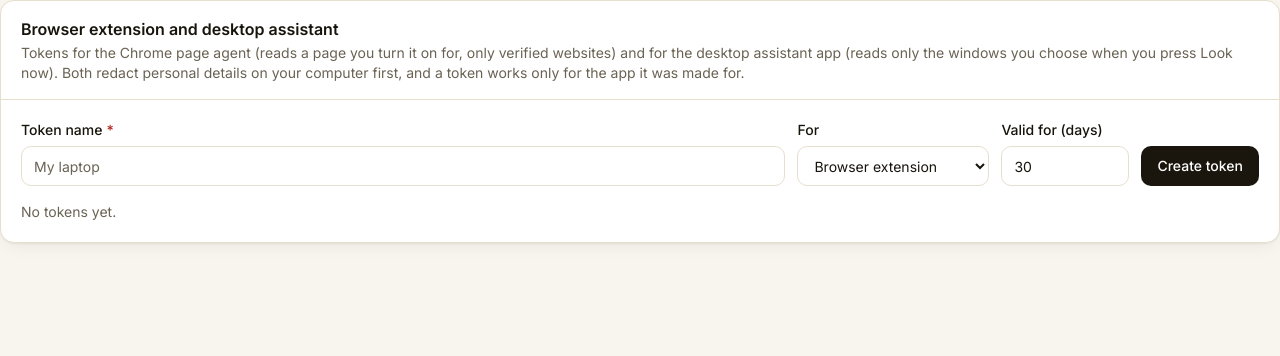
Test: ExtensionTokensCard › explains a refusal in plain words
In the field labelled "Token name*": (403, 166) [21, 146, 785, 186], type "x"
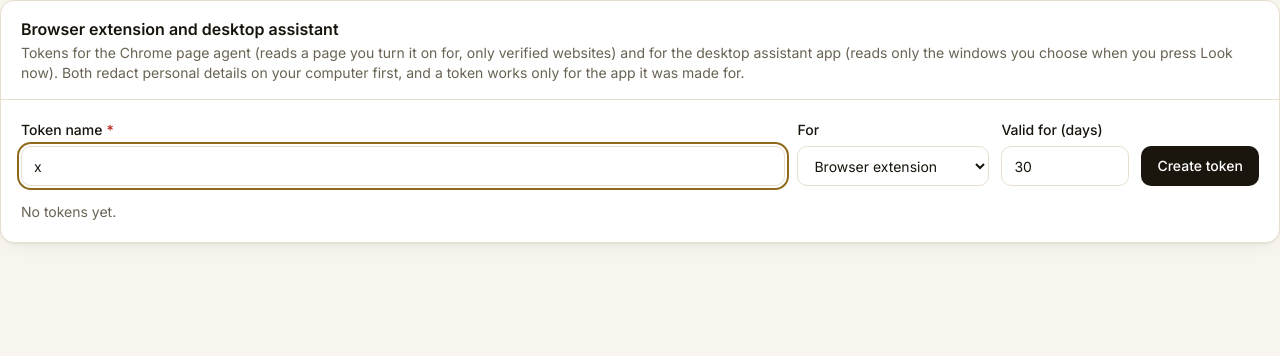
Click the button "Create token": click(1200, 166) [1141, 146, 1259, 186]
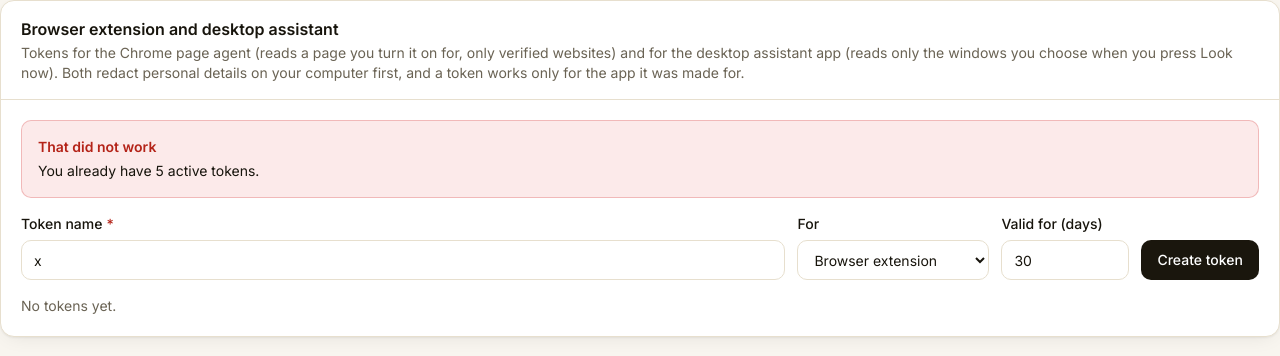
Result: the text "You already have 5 active tokens." is shown at [38, 162, 259, 179]
